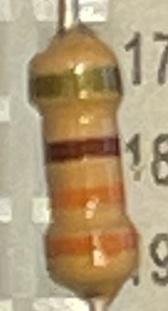Brown: (43, 130, 122, 171)
Orange: (44, 228, 138, 260), (46, 180, 125, 214)
Side-Gold: (28, 60, 122, 109)
